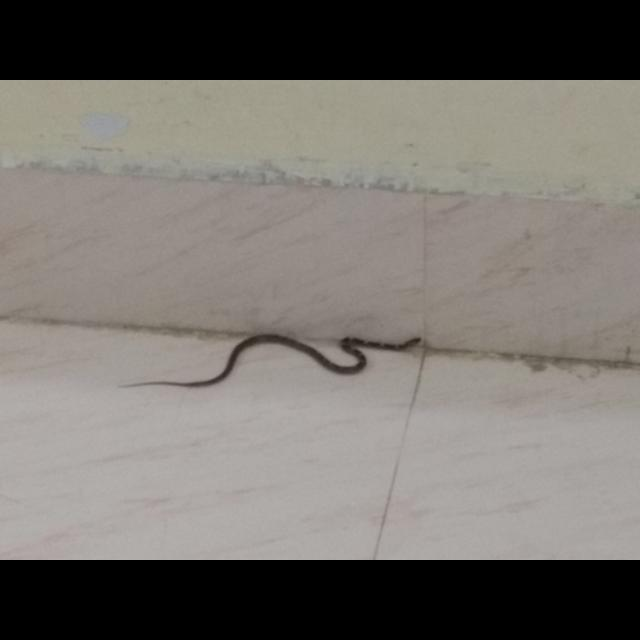snake: (127, 328, 421, 404)
